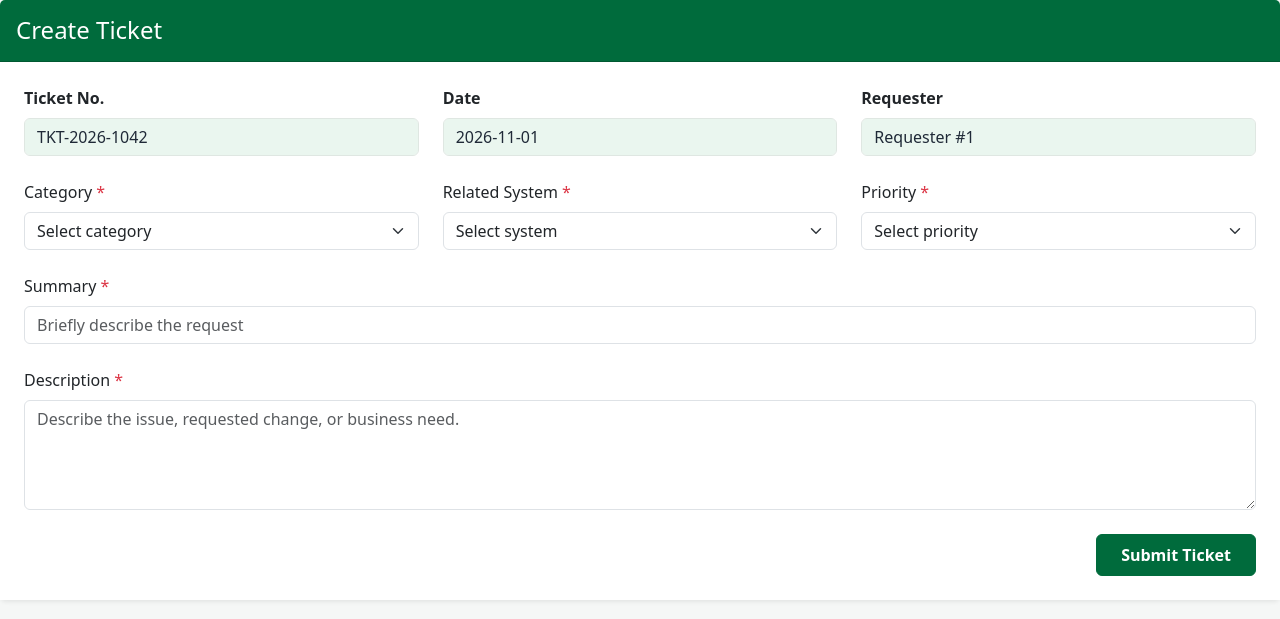
it: CreateTicketForm › submits valid ticket data and enters a busy state
Select "Hardware" in the dropdown labelled "Category *" at (221, 231), box x1=24 y1=212 x2=419 y2=250
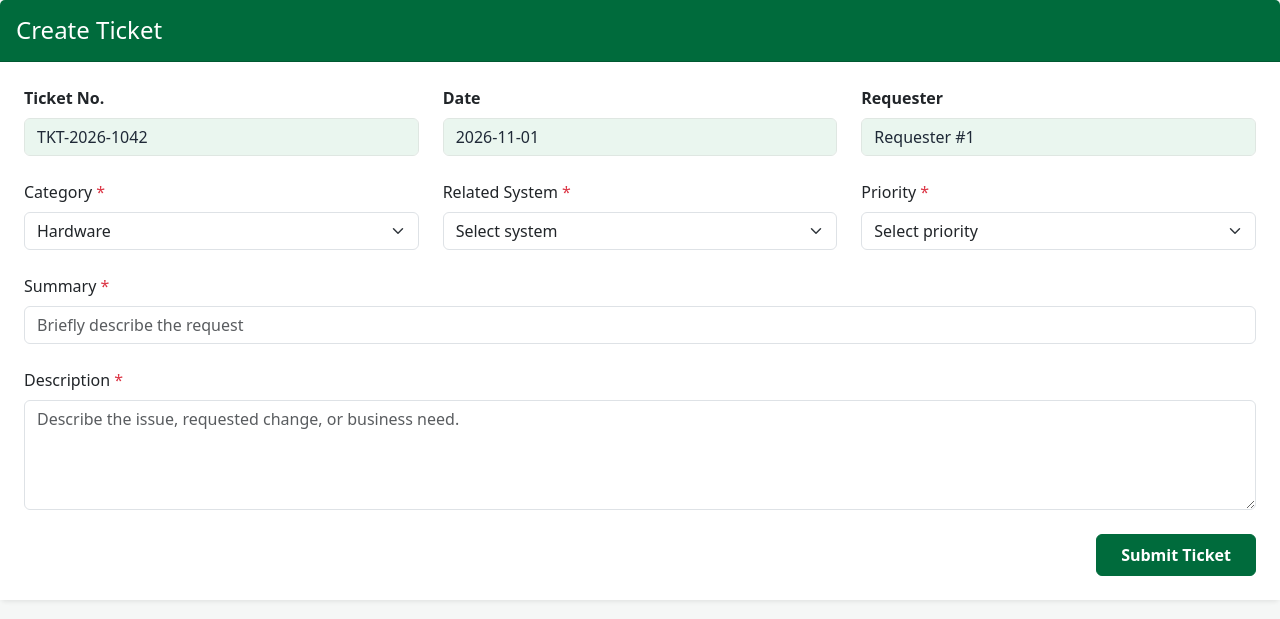
Type "VPN access" into the field with placeholder "Briefly describe the request" at (640, 325), box x1=24 y1=306 x2=1256 y2=344
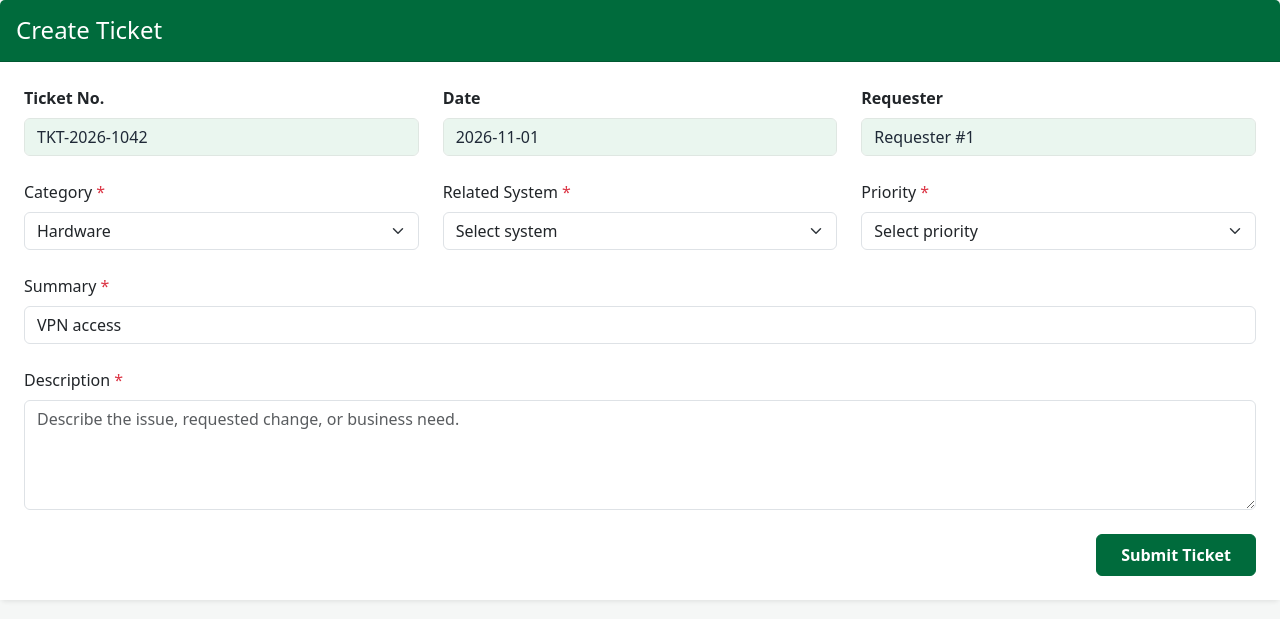
Type "Remote access is required." into the text box labelled "Description *" at (640, 455), box x1=24 y1=400 x2=1256 y2=510
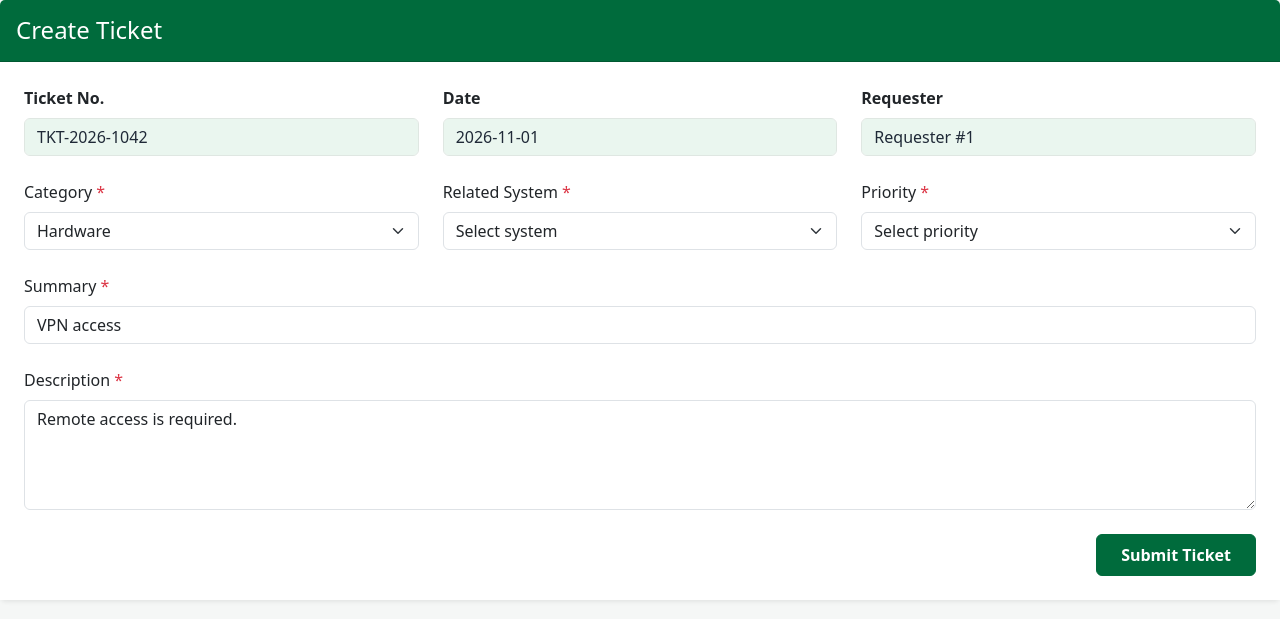
Submit the form named "Submit Ticket"
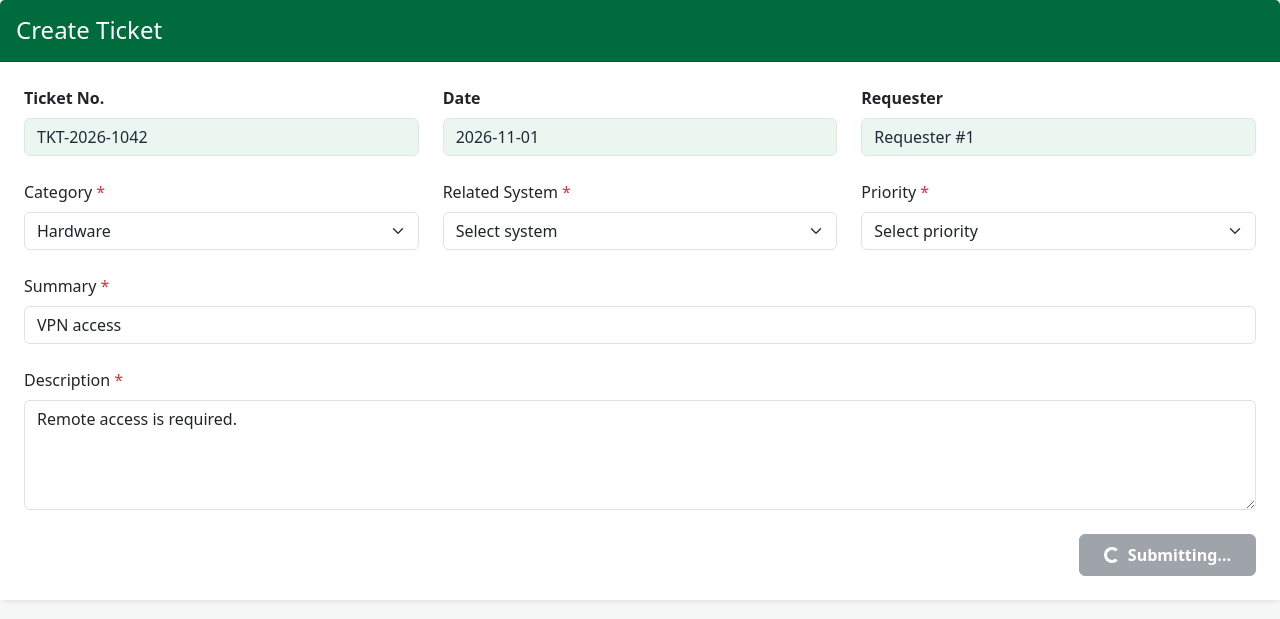
Check: the button "Submitting..." is disabled, box x1=1079 y1=534 x2=1256 y2=576
